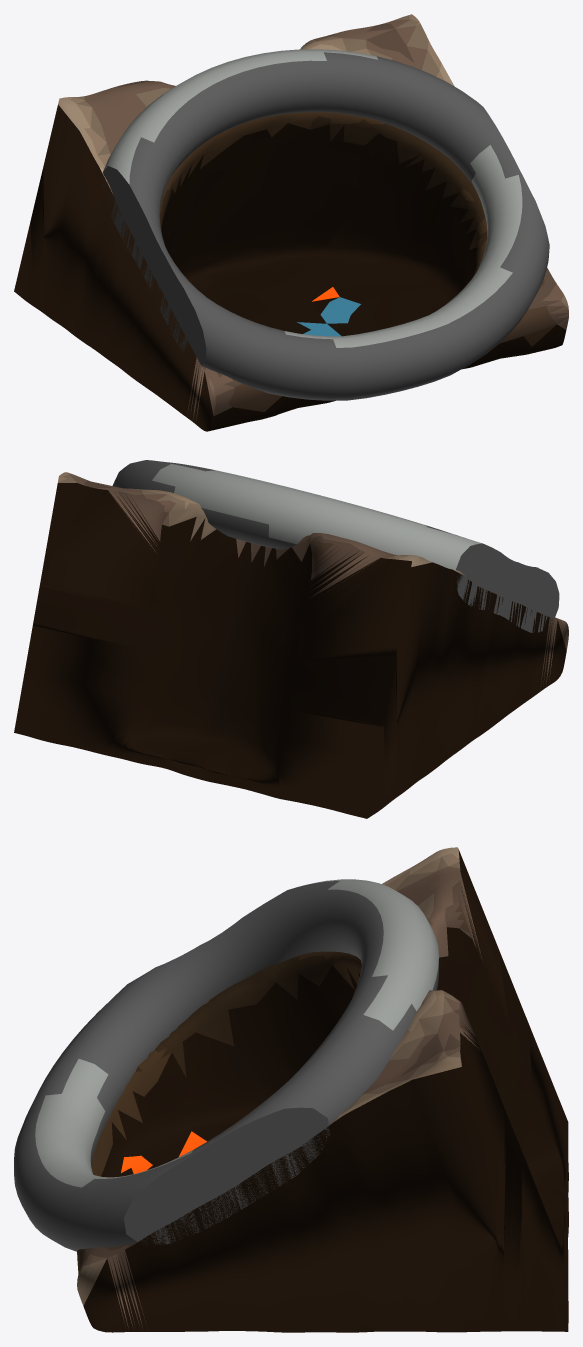
The model's file is drill_rig_bm.glb.
3 views of the same model, one above another, from view 1: azimuth 30°, elevation 25°; view 2: azimuth 150°, elevation 25°; view 3: azimuth 270°, elevation 25° (orthographic). The views are drawn at different scales.
Parts seen in each view (by area): view 1: drill_rig_bm; view 2: drill_rig_bm; view 3: drill_rig_bm.
Boxes of the visible parts, x1,y1,x2,y2 form: drill_rig_bm: [14, 14, 568, 431]; drill_rig_bm: [14, 460, 568, 818]; drill_rig_bm: [14, 847, 568, 1332].
Size of the model in its own units: 24 by 15.79 by 26.87.
